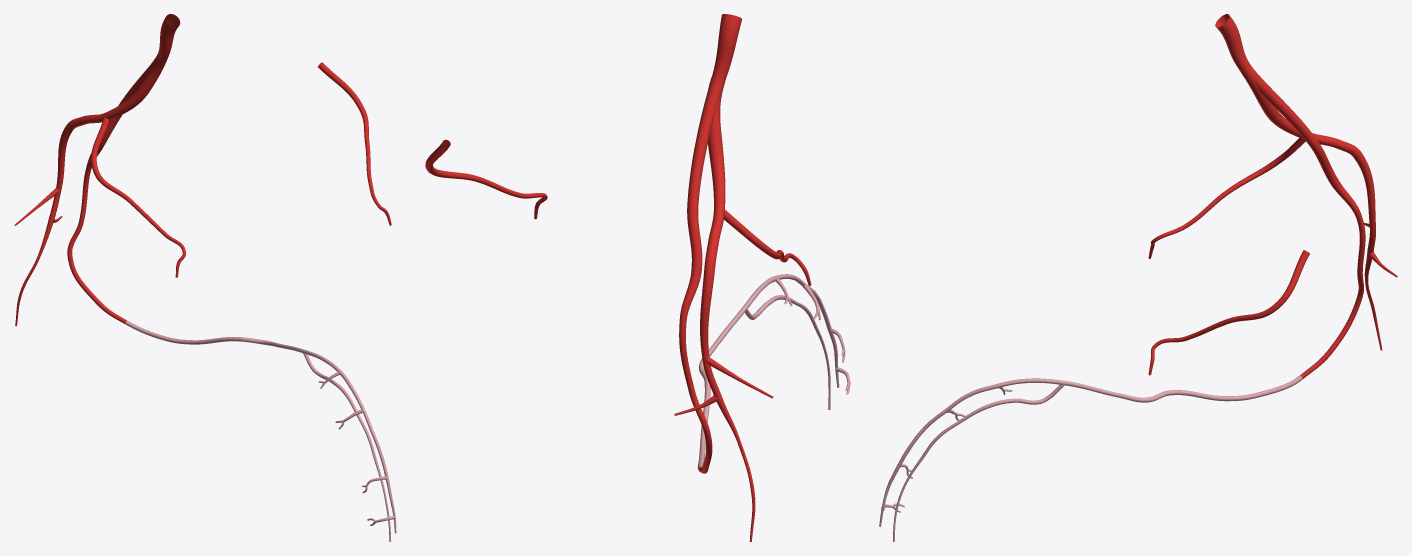
Rendered from circulatorio-anterior-division-of-internal-iliac-artery-r.glb.
3 views of the same model, side by side, from view 1: azimuth 30°, elevation 25°; view 2: azimuth 150°, elevation 25°; view 3: azimuth 270°, elevation 25° (orthographic). The views are drawn at different scales.
Visible parts, largest first — view 1: Inferior gluteal artery.r, Dorsal artery of penis.r, Internal pudendal artery.r, Obturator artery.r, Obturator artery.l, Deep artery of penis.r, Anterior division of internal iliac artery.r; view 2: Inferior gluteal artery.r, Internal pudendal artery.r, Dorsal artery of penis.r, Anterior division of internal iliac artery.r, Obturator artery.l, Obturator artery.r, Deep artery of penis.r; view 3: Internal pudendal artery.r, Dorsal artery of penis.r, Inferior gluteal artery.r, Obturator artery.l, Obturator artery.r, Deep artery of penis.r, Anterior division of internal iliac artery.r.
Part boxes in pixels (x1,y1,x2,y2): Inferior gluteal artery.r: (14,54,168,326); Dorsal artery of penis.r: (125,320,396,533); Internal pudendal artery.r: (67,53,166,323); Obturator artery.r: (91,117,185,277); Obturator artery.l: (317,62,391,225); Deep artery of penis.r: (303,353,391,541); Anterior division of internal iliac artery.r: (158,14,180,58); Inferior gluteal artery.r: (674,76,773,541); Internal pudendal artery.r: (679,79,720,473); Dorsal artery of penis.r: (697,274,850,471); Anterior division of internal iliac artery.r: (712,14,741,80); Obturator artery.l: (425,139,547,219); Obturator artery.r: (724,210,811,285); Deep artery of penis.r: (744,295,830,409); Internal pudendal artery.r: (1241,67,1365,378); Dorsal artery of penis.r: (879,375,1302,526); Inferior gluteal artery.r: (1240,64,1397,350); Obturator artery.l: (1148,250,1309,375); Obturator artery.r: (1148,138,1305,258); Deep artery of penis.r: (893,384,1064,541); Anterior division of internal iliac artery.r: (1215,14,1249,70).
Bounding box in the file's own units: 0.1257 × 0.1694 × 0.1634.
